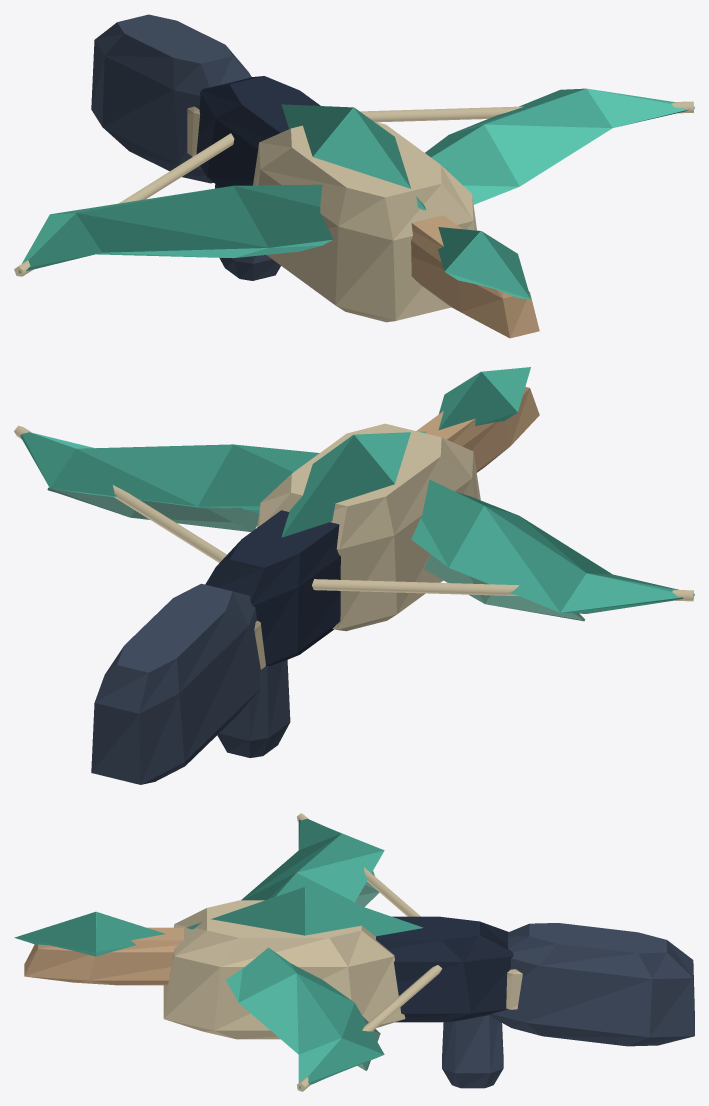
The model's file is 猎隼连弩.glb.
3 renders of one model, top to bottom at view 1: azimuth 30°, elevation 25°; view 2: azimuth 150°, elevation 25°; view 3: azimuth 270°, elevation 25°, orthographic. The views are drawn at different scales.
Parts seen in each view (by area): view 1: 猎隼连弩; view 2: 猎隼连弩; view 3: 猎隼连弩.
Boxes of the visible parts, x1,y1,x2,y2 form: 猎隼连弩: [14, 14, 694, 338]; 猎隼连弩: [14, 367, 694, 784]; 猎隼连弩: [14, 813, 694, 1091].
Bounding box in the file's own units: 1.57 × 0.522 × 1.66.
